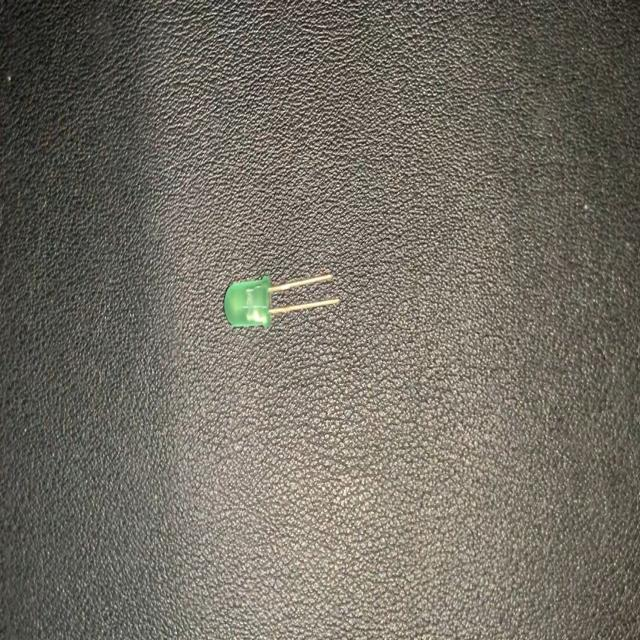LED: (222, 270, 342, 329)
